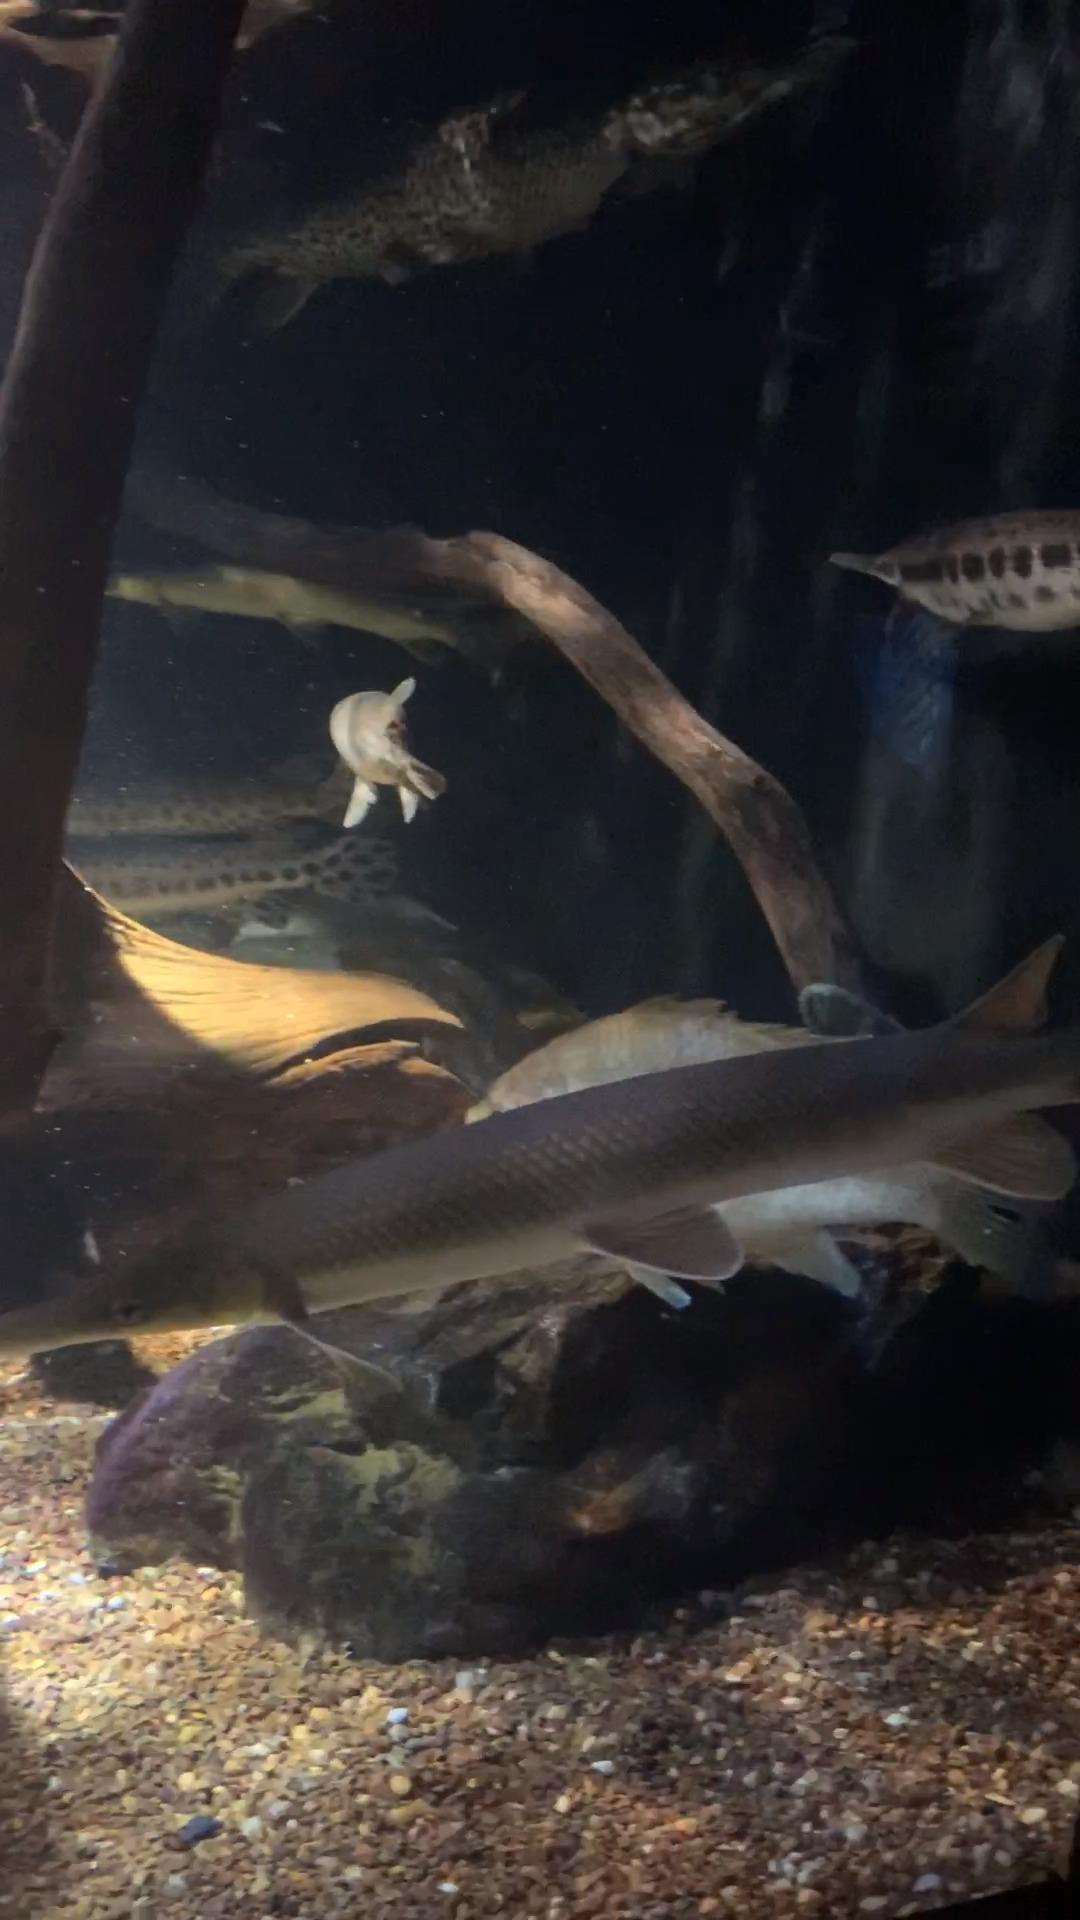fish: (0, 924, 1080, 1367), (824, 509, 1080, 638), (324, 676, 448, 832)
